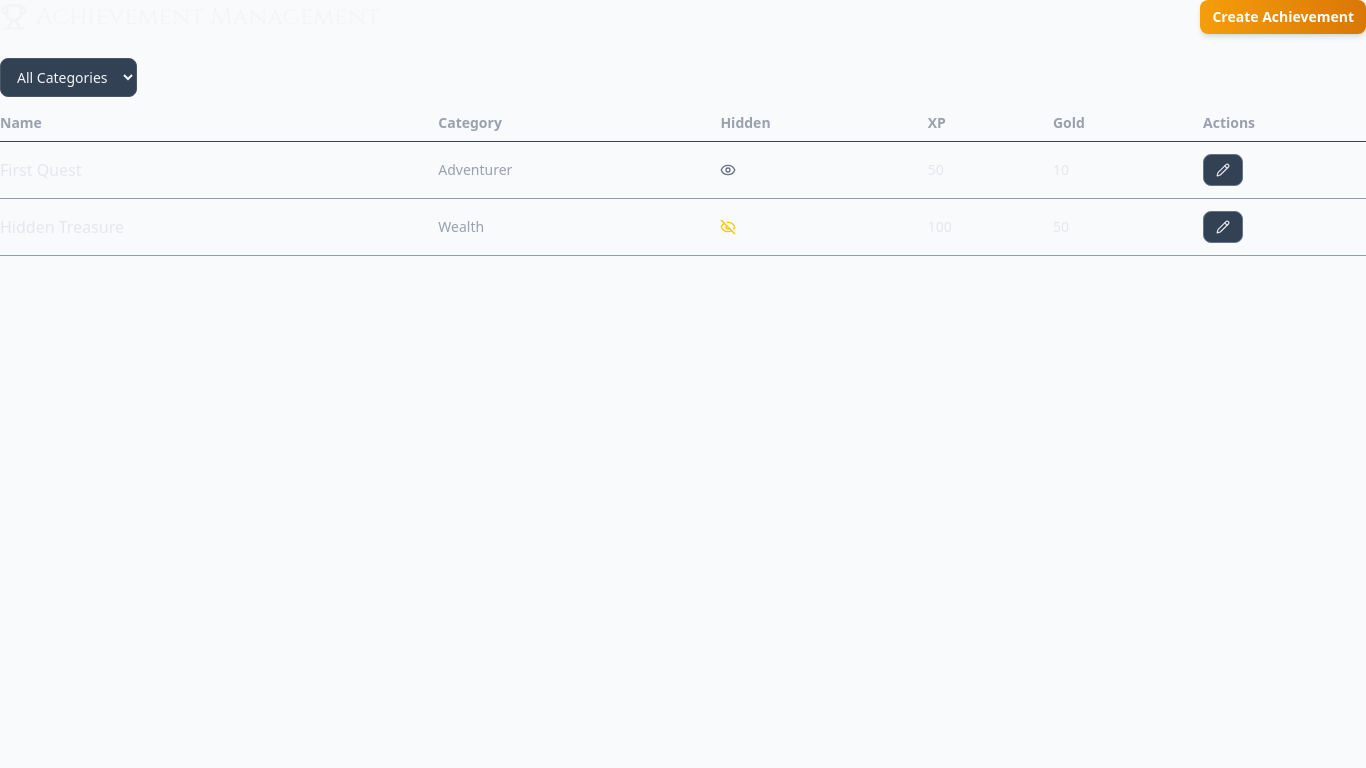
Test: AchievementAdmin › opens edit form when clicking edit button
expect the text "First Quest" is shown: met, box x1=0 y1=141 x2=438 y2=198
Click the button with test id "edit-achievement-ach-1": (1223, 170) x1=1203 y1=154 x2=1243 y2=186
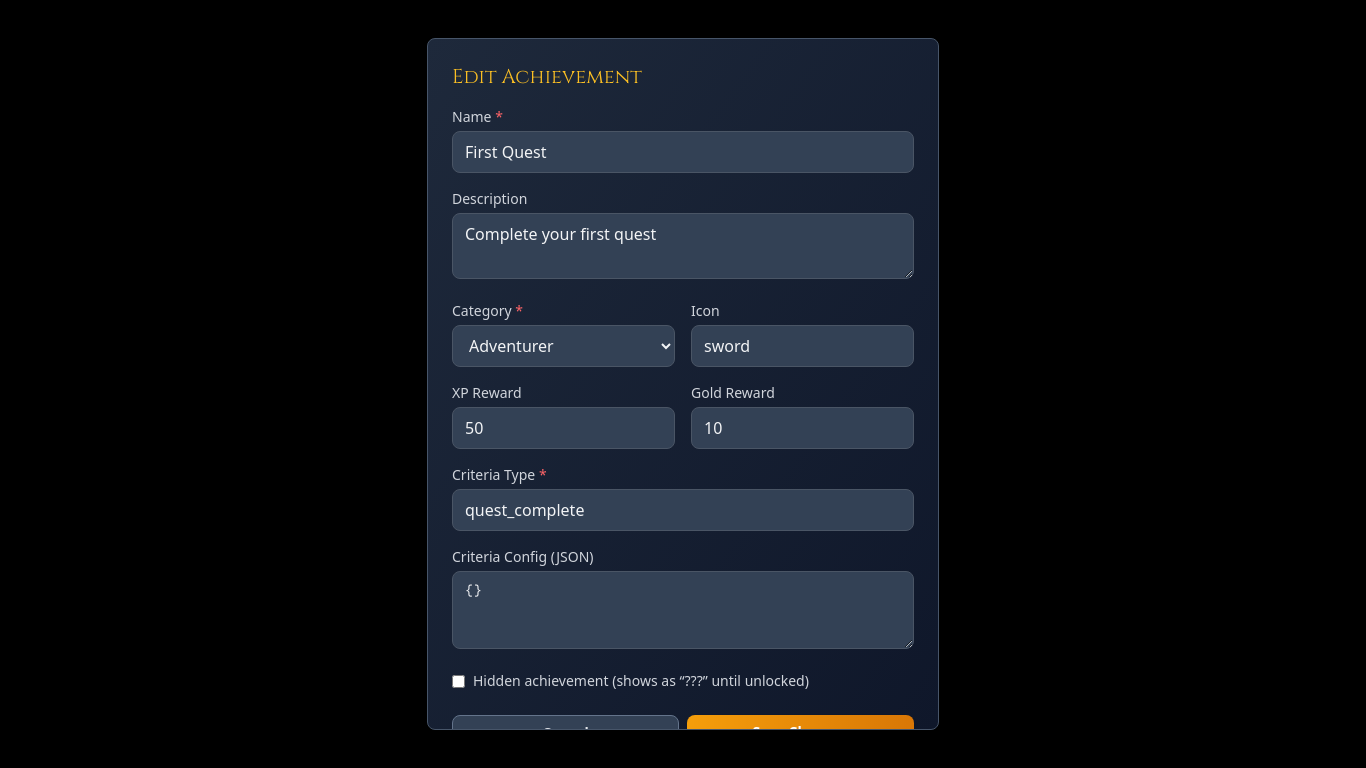
expect the element with test id "achievement-form" is shown: met, box x1=427 y1=38 x2=939 y2=730
expect the field with test id "achievement-name-input" holds "First Quest": met, box x1=452 y1=131 x2=914 y2=173
